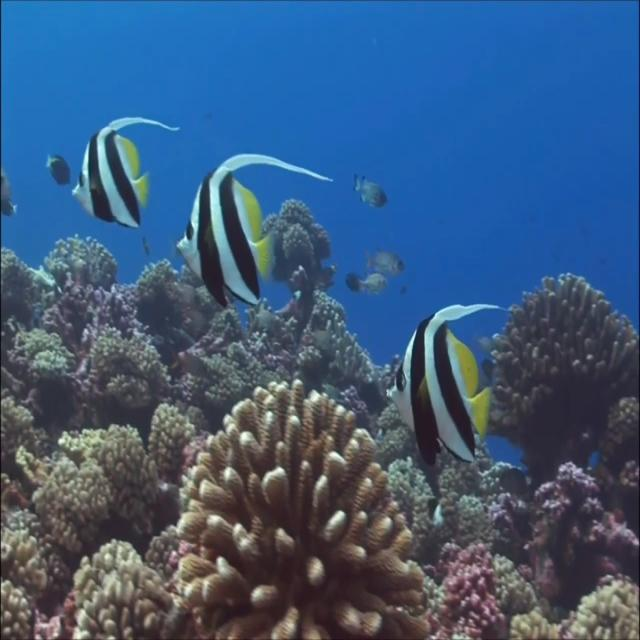Bannerfish: (177, 155, 332, 309), (389, 304, 504, 466), (71, 118, 182, 230)
